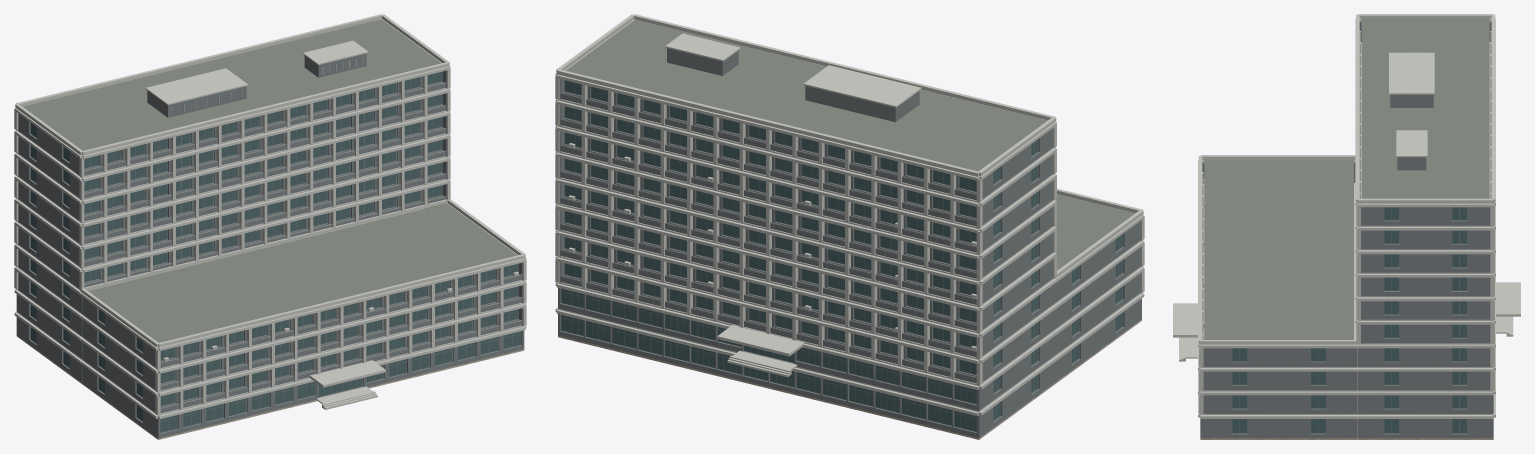
3 renders of one model, left to right at view 1: azimuth 30°, elevation 25°; view 2: azimuth 150°, elevation 25°; view 3: azimuth 270°, elevation 25°, orthographic. The views are drawn at different scales.
Visible parts, largest first — view 1: paldal__white, paldal__grey, paldal__roof, paldal__glass, paldal__frame, paldal__rail, paldal__stone; view 2: paldal__white, paldal__grey, paldal__glass, paldal__roof, paldal__frame, paldal__rail, paldal__stone; view 3: paldal__roof, paldal__grey, paldal__white, paldal__glass, paldal__frame, paldal__stone.
Part boxes in pixels (left/top/right/bottom): paldal__white: left=14, top=14, right=526, bottom=419; paldal__grey: left=16, top=53, right=524, bottom=438; paldal__roof: left=23, top=19, right=517, bottom=342; paldal__glass: left=30, top=71, right=520, bottom=432; paldal__frame: left=30, top=72, right=521, bottom=432; paldal__rail: left=84, top=57, right=522, bottom=409; paldal__stone: left=16, top=335, right=524, bottom=439; paldal__white: left=555, top=14, right=1144, bottom=416; paldal__grey: left=558, top=48, right=1141, bottom=437; paldal__glass: left=561, top=80, right=1122, bottom=431; paldal__roof: left=566, top=20, right=1134, bottom=270; paldal__frame: left=560, top=80, right=1122, bottom=431; paldal__rail: left=560, top=93, right=976, bottom=378; paldal__stone: left=558, top=319, right=1141, bottom=439; paldal__roof: left=1204, top=18, right=1489, bottom=339; paldal__grey: left=1200, top=22, right=1493, bottom=438; paldal__white: left=1173, top=14, right=1520, bottom=418; paldal__glass: left=1232, top=207, right=1466, bottom=432; paldal__frame: left=1232, top=207, right=1467, bottom=433; paldal__stone: left=1200, top=344, right=1493, bottom=439.
Bounding box in the file's own units: 61.36 × 38.87 × 48.26.
7 materials, 4 textured.
